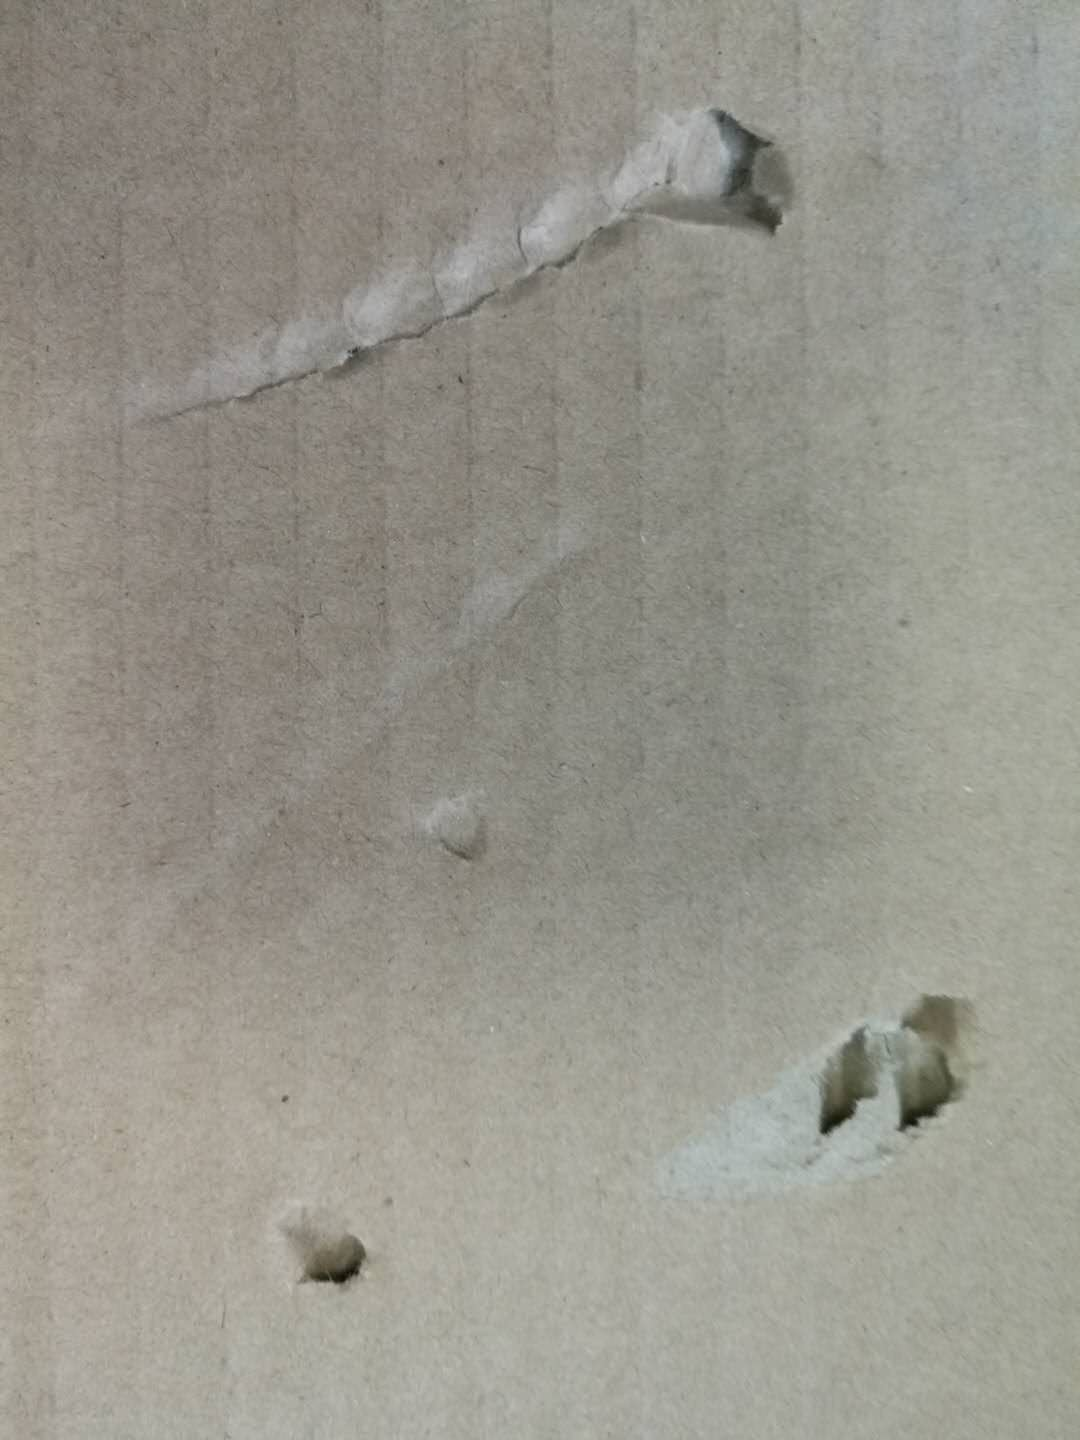defect: (51, 499, 663, 1020), (86, 62, 852, 444), (611, 968, 1015, 1228), (251, 1170, 400, 1315), (406, 776, 511, 878)
